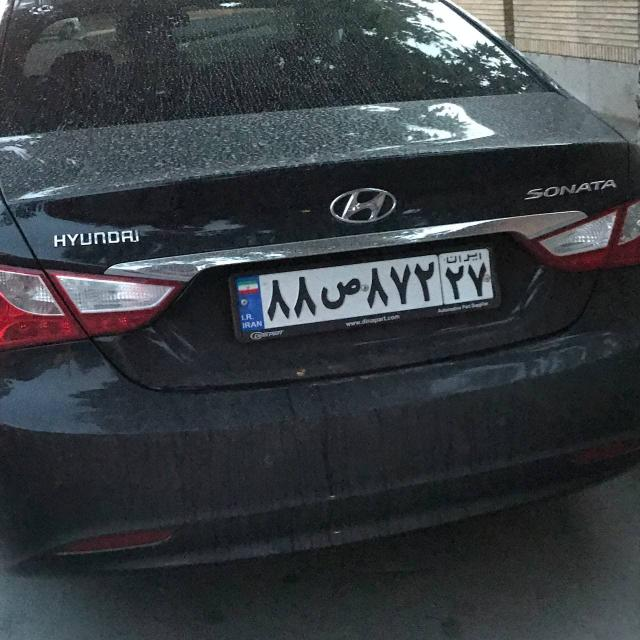Plates: (234, 244, 495, 332)
